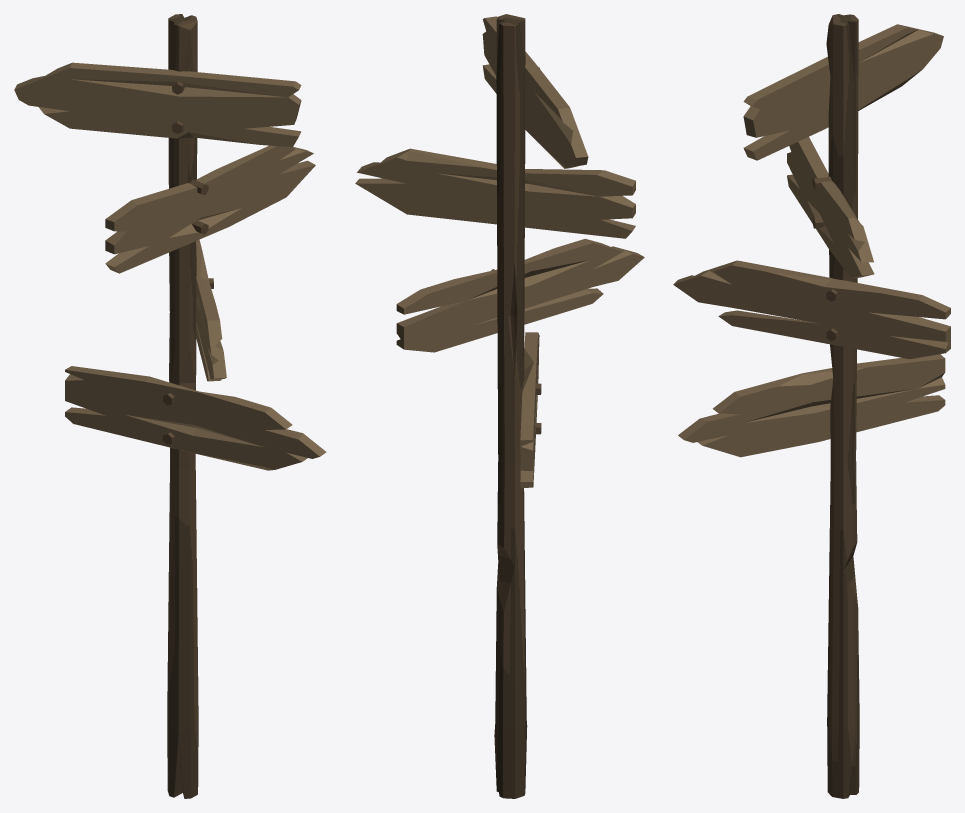
Rendered from SM_Prop_Sign_01.fbx.
3 views of the same model, side by side, from view 1: azimuth 30°, elevation 25°; view 2: azimuth 150°, elevation 25°; view 3: azimuth 270°, elevation 25° (orthographic).
Parts seen in each view (by area): view 1: SM_Prop_Sign_01; view 2: SM_Prop_Sign_01; view 3: SM_Prop_Sign_01.
Part boxes in pixels (left/top/right/bottom): SM_Prop_Sign_01: left=14, top=14, right=326, bottom=798; SM_Prop_Sign_01: left=355, top=14, right=644, bottom=798; SM_Prop_Sign_01: left=673, top=14, right=950, bottom=798.
Bounding box in the file's own units: 106 × 296 × 96.34.
1 material, 1 textured.
